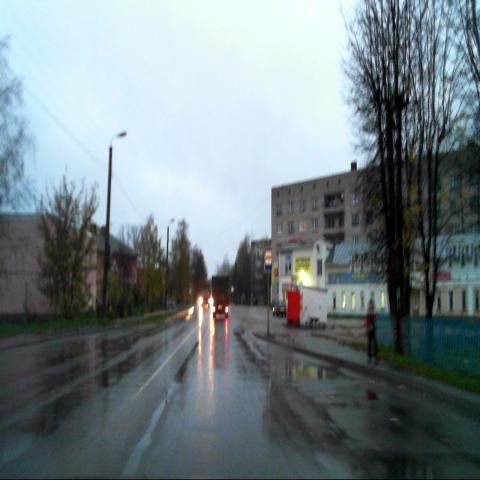5_16: (264, 248, 272, 272)
